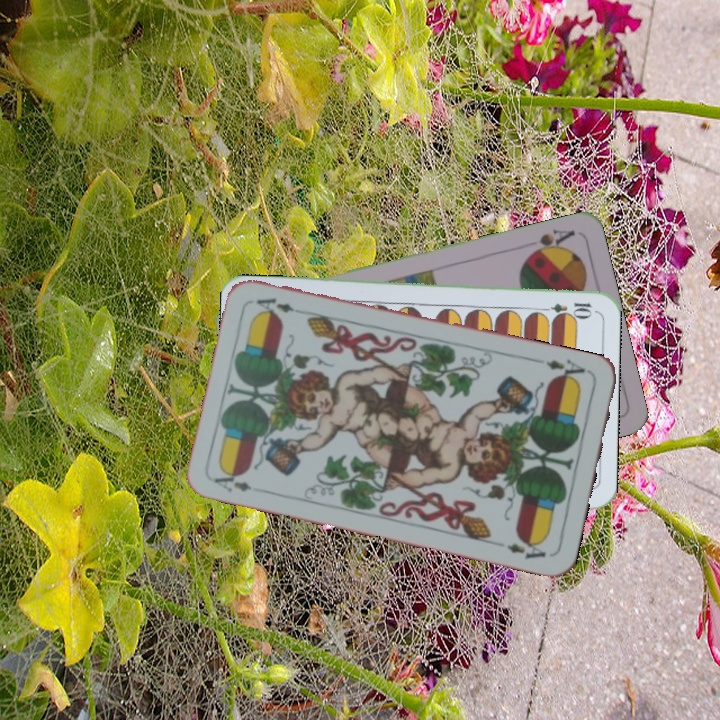E10: (535, 298, 594, 317)
EA: (542, 355, 593, 385), (210, 466, 254, 495)
SA: (522, 225, 578, 260)
